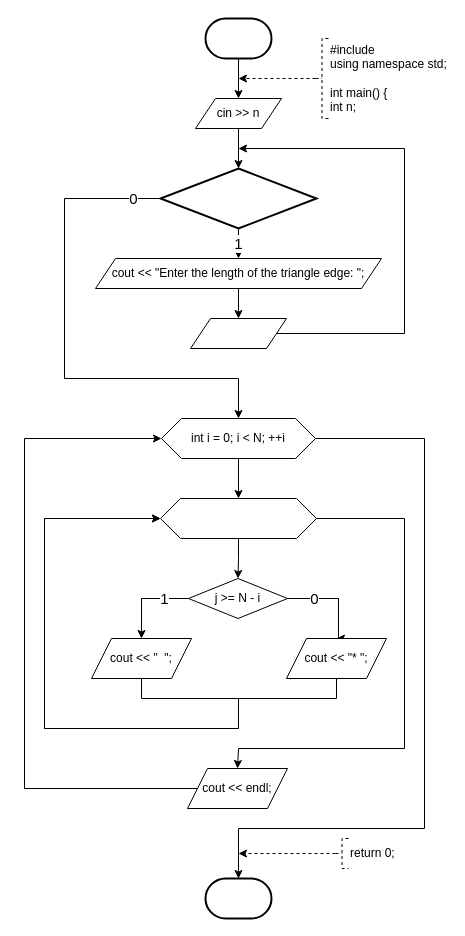
This 465x936 diagram has some shape labels left out. Each missing label, with the centre of its shape:
cin >> n;: the point at 238,333
int j = 0; j < N; ++j: the point at 238,518
n <= 2: the point at 238,198
Конец: the point at 238,898
Начало: the point at 238,38
